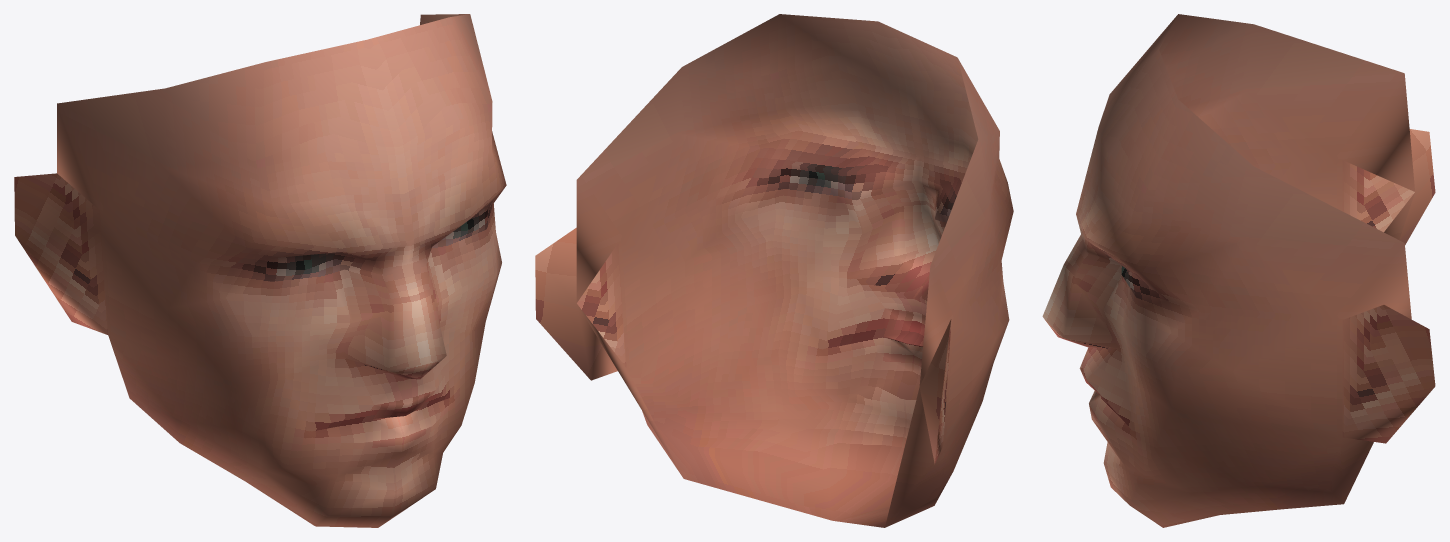
3 renders of one model, left to right at view 1: azimuth 30°, elevation 25°; view 2: azimuth 150°, elevation 25°; view 3: azimuth 270°, elevation 25°, orthographic. The views are drawn at different scales.
Visible parts, largest first — view 1: editpl_m-0000-126, editpl_m-0000-125; view 2: editpl_m-0000-126, editpl_m-0000-125; view 3: editpl_m-0000-126, editpl_m-0000-125.
Boxes of the visible parts, x1,y1,x2,y2 form: editpl_m-0000-126: (14,14,506,382); editpl_m-0000-125: (108,322,485,527); editpl_m-0000-126: (535,14,1013,464); editpl_m-0000-125: (578,249,992,527); editpl_m-0000-126: (1042,14,1435,443); editpl_m-0000-125: (1044,193,1414,527).
Size of the model in its own units: 17.18 by 18.64 by 14.46.
1 material, 1 textured.
